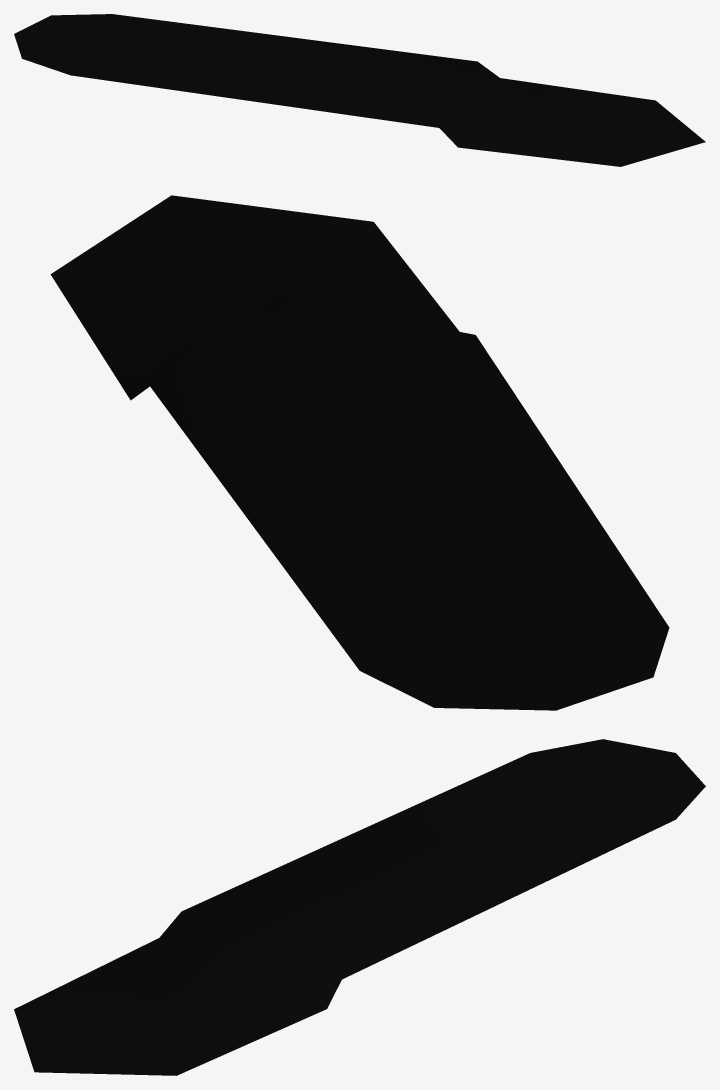
3 renders of one model, top to bottom at view 1: azimuth 30°, elevation 25°; view 2: azimuth 150°, elevation 25°; view 3: azimuth 270°, elevation 25°, orthographic. The views are drawn at different scales.
Parts seen in each view (by area): view 1: Joint_0_Object_0; view 2: Joint_0_Object_0; view 3: Joint_0_Object_0.
Part boxes in pixels (bbox=[...]): Joint_0_Object_0: bbox=[14, 14, 705, 166]; Joint_0_Object_0: bbox=[50, 195, 669, 710]; Joint_0_Object_0: bbox=[14, 739, 705, 1075].
Size of the model in its own units: 312 by 21.8 by 312.
1 material, 1 textured.
